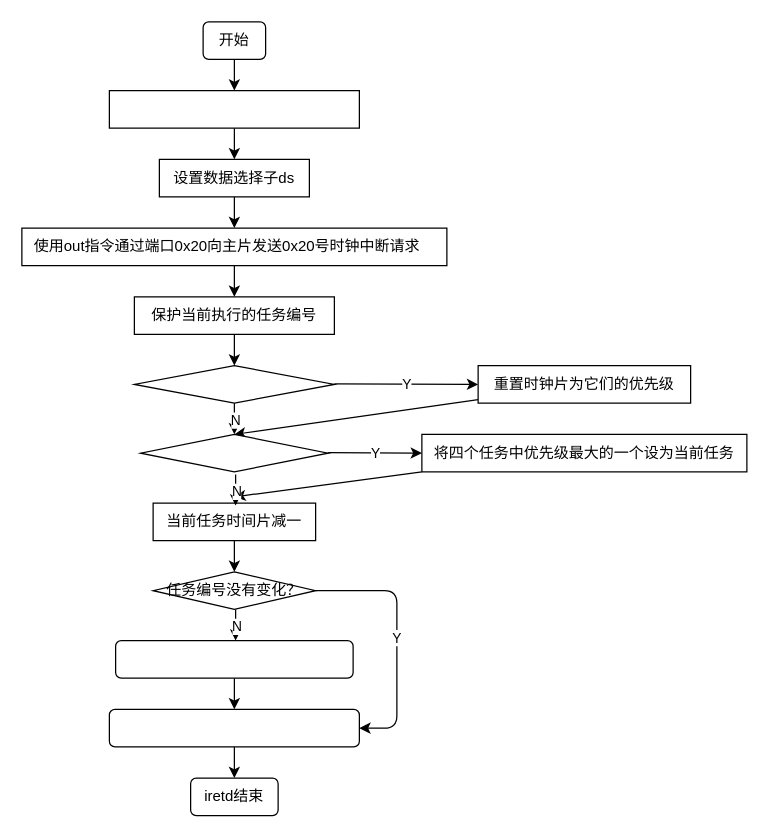
Image size: 769x838. Some labels were removed from this diagram. The shapes that lost their labels are listed below. From the top down, each one's centre as x and y in pixels, then its label:
At point (233, 108): "将ds和通用寄存器入栈，保护现场".
At point (233, 383): "四个任务的时钟片全为0？".
At point (233, 452): "当前任务的时钟片为0？".
At point (233, 658): "用SwitchTask宏切换到候选任务".
At point (233, 727): "将通用寄存器和ds出栈以恢复现场".
